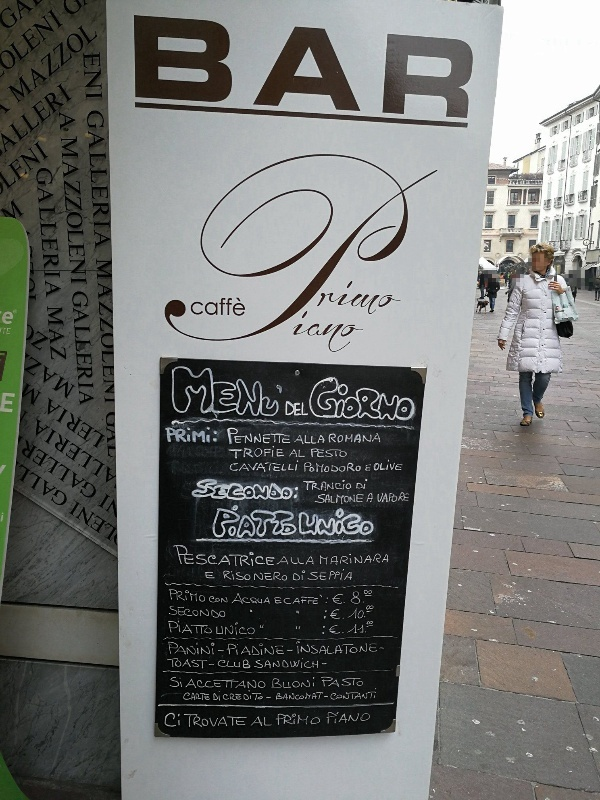text: (17, 1, 32, 553), (33, 1, 48, 553), (49, 1, 64, 553), (65, 1, 80, 553), (81, 1, 96, 553), (97, 1, 112, 553), (2, 1, 16, 553), (113, 1, 118, 553), (145, 11, 160, 121), (161, 11, 176, 121), (177, 11, 192, 121), (193, 11, 208, 121), (209, 11, 224, 121), (225, 11, 240, 121), (241, 11, 256, 121), (257, 11, 272, 121), (273, 11, 288, 121), (289, 11, 304, 121), (305, 11, 320, 121), (321, 11, 336, 121), (337, 11, 352, 121), (353, 11, 368, 121), (369, 11, 384, 121), (385, 11, 400, 121), (401, 11, 416, 121), (417, 11, 432, 121), (433, 11, 448, 121), (449, 11, 464, 121), (134, 11, 144, 121), (465, 11, 475, 121), (177, 367, 192, 418), (193, 367, 208, 418), (209, 367, 224, 418), (225, 367, 240, 418), (241, 367, 256, 418), (257, 367, 272, 418), (321, 375, 336, 423), (337, 375, 352, 423), (353, 375, 368, 423), (369, 375, 384, 423), (385, 375, 400, 423), (401, 375, 415, 423), (321, 311, 336, 355), (337, 311, 352, 355), (337, 276, 352, 319), (353, 276, 368, 319), (369, 276, 384, 319), (385, 276, 400, 319), (307, 311, 320, 355), (273, 367, 284, 418), (353, 311, 365, 355), (225, 504, 240, 539), (241, 504, 256, 539), (257, 504, 272, 539), (273, 504, 288, 539), (305, 504, 320, 536), (321, 504, 336, 536), (337, 504, 352, 536), (353, 504, 368, 536), (327, 276, 336, 319), (312, 375, 320, 423), (209, 478, 224, 501), (225, 478, 240, 501), (241, 478, 256, 501), (257, 478, 272, 501), (273, 478, 288, 501), (177, 544, 192, 566), (193, 544, 208, 566), (209, 544, 224, 566), (225, 544, 240, 566), (241, 544, 256, 566), (257, 544, 272, 566), (193, 296, 208, 317), (209, 296, 224, 317), (225, 296, 240, 317), (289, 504, 298, 539), (241, 427, 256, 444), (257, 427, 272, 444), (273, 427, 288, 444), (289, 401, 304, 417), (289, 478, 299, 501), (177, 427, 192, 442), (193, 427, 208, 442), (227, 427, 240, 444), (218, 504, 224, 539), (177, 620, 192, 634), (193, 620, 208, 634), (305, 640, 320, 654), (321, 640, 336, 654), (337, 640, 352, 654), (353, 640, 368, 654), (199, 478, 208, 501), (172, 367, 176, 418), (241, 446, 256, 459), (257, 446, 272, 459), (321, 569, 336, 582), (337, 569, 352, 582), (177, 589, 192, 602), (225, 622, 240, 635), (177, 642, 192, 655), (193, 642, 208, 655), (337, 711, 352, 724), (353, 711, 368, 724), (193, 714, 208, 727), (209, 714, 224, 727), (225, 714, 240, 727), (193, 605, 209, 617), (305, 714, 321, 726), (241, 622, 255, 635), (225, 570, 240, 582), (241, 570, 256, 582), (257, 570, 272, 582), (177, 605, 192, 617), (241, 643, 256, 655), (257, 643, 272, 655), (289, 714, 304, 726), (273, 677, 288, 689), (289, 677, 304, 689), (193, 678, 208, 690), (209, 678, 224, 690), (225, 678, 240, 690), (241, 678, 256, 690), (337, 688, 352, 700), (353, 688, 368, 700), (401, 276, 405, 319), (193, 589, 206, 602), (273, 570, 287, 582), (241, 460, 256, 471), (257, 460, 272, 471), (273, 460, 288, 471), (305, 461, 320, 472), (321, 461, 336, 472), (337, 461, 352, 472), (305, 480, 320, 491), (321, 480, 336, 491), (385, 460, 400, 471), (385, 492, 400, 503), (321, 494, 336, 505), (337, 494, 352, 505), (321, 554, 336, 565), (337, 554, 352, 565), (353, 554, 368, 565), (369, 554, 384, 565), (241, 593, 256, 604), (177, 658, 192, 669), (193, 658, 208, 669), (369, 504, 374, 536), (228, 446, 240, 459), (227, 643, 240, 655), (337, 480, 351, 491), (257, 593, 271, 604), (337, 433, 352, 443), (353, 433, 368, 443), (305, 435, 320, 445), (369, 493, 384, 503), (166, 712, 176, 727), (321, 677, 336, 687), (337, 677, 352, 687), (166, 427, 176, 442), (276, 714, 288, 726), (273, 446, 284, 459), (258, 716, 272, 726), (321, 449, 336, 458), (289, 556, 304, 565), (289, 596, 304, 605), (193, 692, 208, 701), (289, 692, 304, 701), (209, 427, 218, 442), (293, 569, 304, 581), (273, 643, 284, 655), (244, 690, 256, 701), (369, 433, 382, 443), (300, 504, 304, 536), (274, 596, 288, 605), (305, 596, 319, 605), (369, 640, 378, 654), (353, 494, 364, 505), (212, 609, 224, 619), (305, 677, 315, 689), (311, 569, 320, 582), (327, 711, 336, 724), (168, 620, 176, 634), (230, 460, 240, 471), (289, 460, 299, 471), (357, 479, 368, 489), (257, 678, 266, 690), (209, 596, 224, 603), (225, 694, 240, 701), (168, 642, 176, 655), (184, 714, 192, 727), (307, 692, 320, 700), (214, 691, 224, 701), (353, 677, 363, 687), (375, 460, 384, 471), (401, 492, 410, 503), (167, 658, 176, 669), (277, 692, 288, 701), (297, 640, 304, 654), (369, 688, 377, 700), (169, 589, 176, 602), (217, 622, 224, 635), (337, 449, 347, 458), (305, 556, 315, 565), (353, 461, 361, 472), (241, 296, 245, 317), (311, 449, 320, 458), (294, 449, 304, 457), (209, 642, 215, 655), (241, 714, 247, 727), (170, 605, 176, 617), (177, 676, 183, 688), (184, 692, 192, 701), (329, 433, 336, 443), (378, 492, 384, 503), (173, 544, 176, 566), (321, 435, 327, 445), (171, 676, 176, 688), (331, 688, 336, 700), (257, 693, 264, 701), (305, 401, 308, 417), (177, 712, 180, 727), (273, 544, 275, 566), (209, 572, 215, 579), (209, 620, 212, 634), (300, 435, 304, 445), (284, 556, 288, 565), (401, 460, 404, 471), (385, 554, 388, 565), (286, 401, 288, 417), (252, 693, 256, 701), (324, 696, 336, 698), (318, 494, 320, 505), (238, 593, 240, 604), (191, 296, 192, 317), (205, 572, 208, 579), (225, 596, 228, 603), (289, 427, 290, 444), (321, 692, 323, 700), (369, 711, 370, 724), (366, 465, 368, 471), (369, 465, 371, 471), (223, 570, 224, 582), (303, 480, 304, 491), (225, 609, 226, 619), (267, 696, 272, 698), (209, 692, 210, 701), (305, 449, 306, 457), (289, 649, 293, 651), (380, 647, 384, 649), (241, 694, 242, 701), (218, 651, 224, 652)
